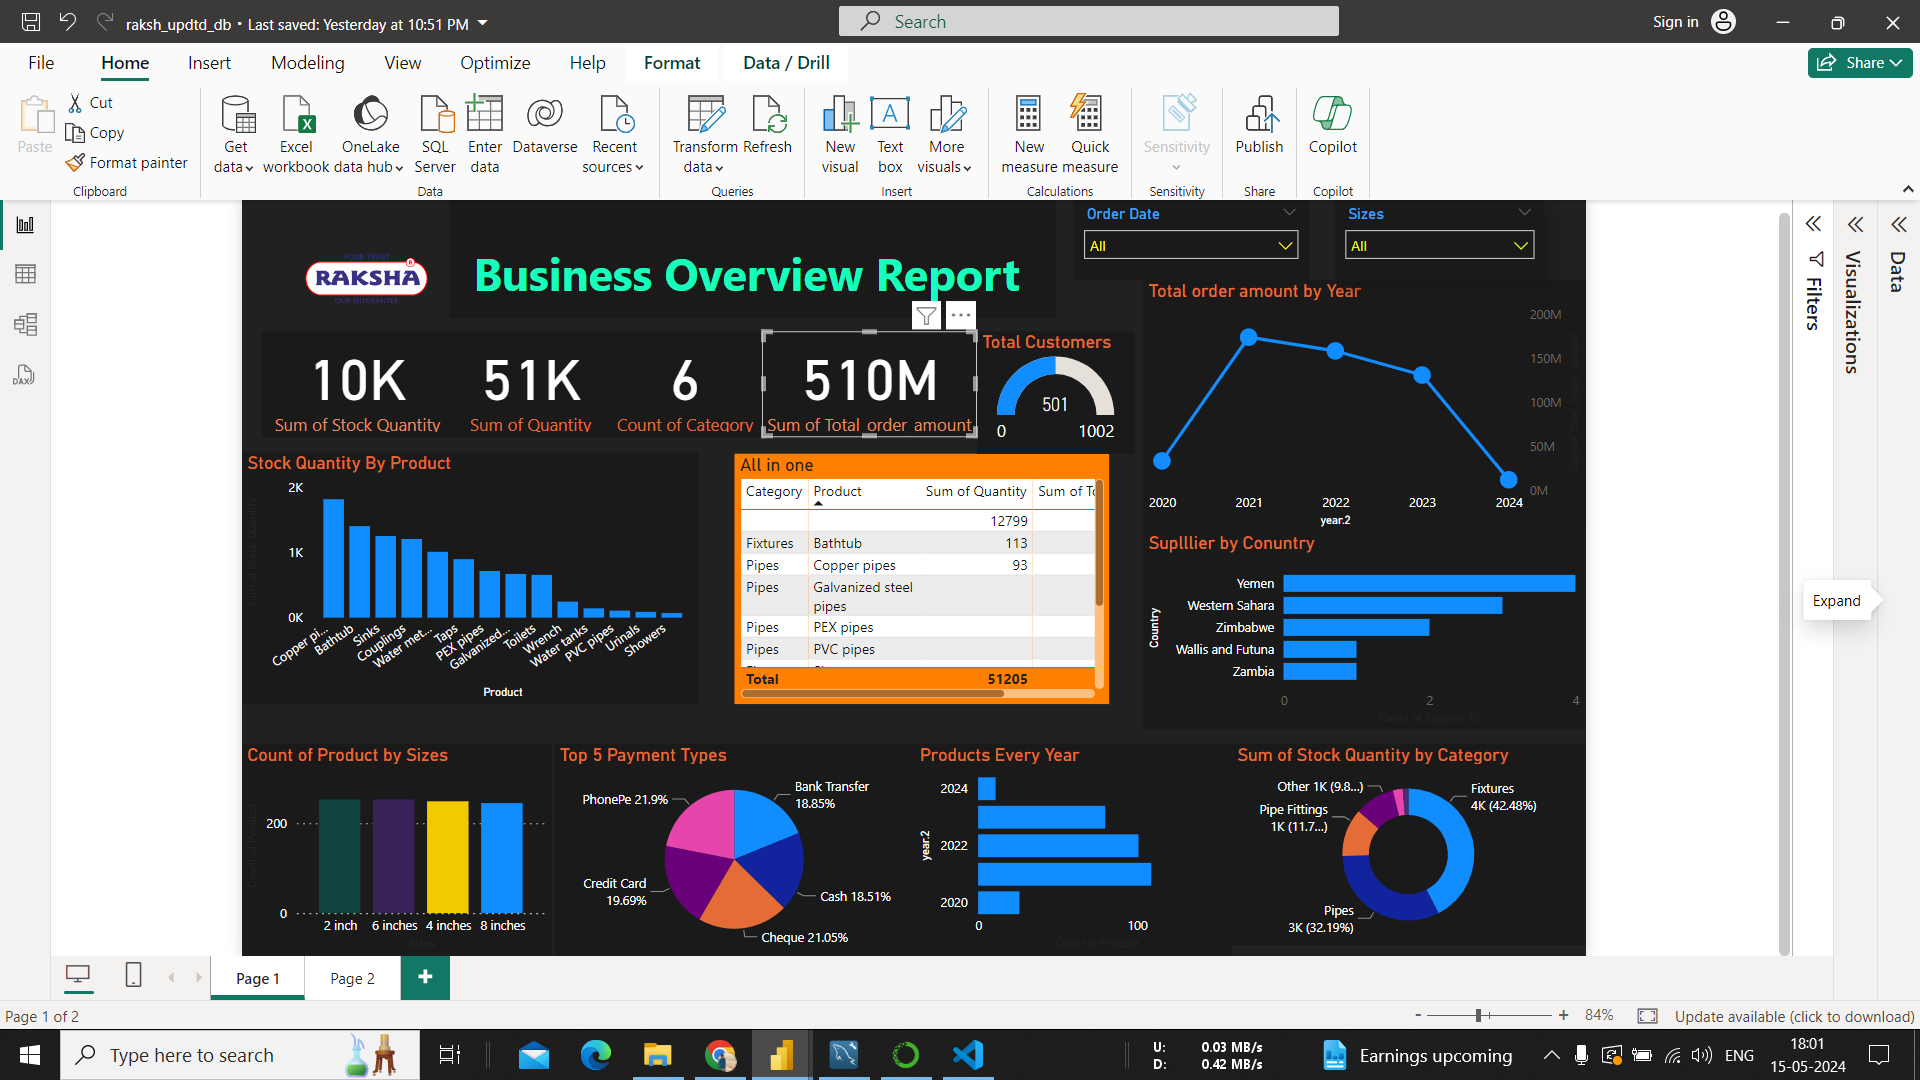

This screenshot's page, from the dashboard's own definition file:
{"tool":"powerbi","page":{"name":"Page 1","canvas":[1280,720],"ordinal":0},"visuals":[{"type":"textbox","box":[197.6,0,577.4,113.1],"z":0},{"type":"lineChart","title":"Total order amount by Year","fields":{"Category":["OrdersRK1.year.2"],"Y2":["Sum(OrdersRK1.Total_order_amount)"]},"box":[858.4,76.6,422.1,240.3],"z":1000},{"type":"clusteredColumnChart","title":"Stock Quantity By Product ","fields":{"Y":["Sum(Products_RK2.Stock Quantity)"],"Category":["Products_RK2.Product"]},"box":[0,240.5,434.5,239.3],"z":2000},{"type":"card","fields":{"Values":["Sum(Products_RK2.Stock Quantity)"]},"box":[19,125,182.1,101.2],"z":3000},{"type":"card","fields":{"Values":["Sum(OrdersRK1.Total_order_amount)"]},"box":[495.2,125,204.8,101.2],"z":4000},{"type":"clusteredBarChart","title":"Suplllier by Conuntry ","fields":{"Category":["shippers2.Country"],"Y":["CountNonNull(shippers2.Supplier ID)"]},"box":[858.4,316.9,420.8,188.3],"z":5000},{"type":"pieChart","title":"Top 5 Payment Types","fields":{"Series":["AccountsRk.Payment Type"],"Y":["CountNonNull(AccountsRk.Payment ID)"]},"box":[297.4,518.2,342.9,201.3],"z":6000},{"type":"donutChart","fields":{"Category":["Products_RK2.Category"],"Y":["Sum(Products_RK2.Stock Quantity)"]},"box":[942.9,518.2,336.4,192.2],"z":7000},{"type":"columnChart","fields":{"Category":["Year on Year Sales.Sizes"],"Y":["CountNonNull(Year on Year Sales.Product)"]},"box":[0,518.2,294.8,201.3],"z":8000},{"type":"slicer","fields":{"Values":["Year on Year Sales.Sizes"]},"box":[1040.3,0,200,76.6],"z":9000},{"type":"card","fields":{"Values":["Sum(Year on Year Sales.Quantity)"]},"box":[201.2,125,147.6,101.2],"z":10000},{"type":"barChart","title":"Products Every Year ","fields":{"Category":["OrdersRK1.year.2"],"Y":["CountNonNull(Year on Year Sales.Product)"]},"box":[640.3,518.2,302.6,201.3],"z":11000},{"type":"slicer","fields":{"Values":["OrdersRK1.Order Date"]},"box":[792.2,0,224.7,76.6],"z":12000},{"type":"image","box":[0,0,236.9,151.2],"z":13000},{"type":"tableEx","title":"All in one ","fields":{"Values":["Products_RK2.Category","Products_RK2.Product","Sum(Year on Year Sales.Quantity)","Sum(OrdersRK1.Total_order_amount)"]},"box":[469.1,241.7,357.1,238.1],"z":14000},{"type":"card","fields":{"Values":["Count(Products_RK2.Category)"]},"box":[348.8,125,146.4,101.2],"z":15000},{"type":"gauge","title":"Total Customers","fields":{"Y":["CountNonNull(Personal Details.customersID)"]},"box":[700,125,150,116.7],"z":16000}]}

Visuals, with their boxes on the page's 1280x720 design canvas (x1, y1, x2, y2). These are canvas units, not pixel positions in the 1920x1080 screenshot, which may show the page scaled, cropped or inside an application window:
textbox: BBox(198, 0, 775, 113)
"Total order amount by Year" lineChart: BBox(858, 77, 1280, 317)
"Stock Quantity By Product " clusteredColumnChart: BBox(0, 240, 434, 480)
card - Sum(Products_RK2.Stock Quantity): BBox(19, 125, 201, 226)
card - Sum(OrdersRK1.Total_order_amount): BBox(495, 125, 700, 226)
"Suplllier by Conuntry " clusteredBarChart: BBox(858, 317, 1279, 505)
"Top 5 Payment Types" pieChart: BBox(297, 518, 640, 720)
donutChart - Products_RK2.Category x Sum(Products_RK2.Stock Quantity): BBox(943, 518, 1279, 710)
columnChart - Year on Year Sales.Sizes x CountNonNull(Year on Year Sales.Product): BBox(0, 518, 295, 720)
slicer - Year on Year Sales.Sizes: BBox(1040, 0, 1240, 77)
card - Sum(Year on Year Sales.Quantity): BBox(201, 125, 349, 226)
"Products Every Year " barChart: BBox(640, 518, 943, 720)
slicer - OrdersRK1.Order Date: BBox(792, 0, 1017, 77)
image: BBox(0, 0, 237, 151)
"All in one " tableEx: BBox(469, 242, 826, 480)
card - Count(Products_RK2.Category): BBox(349, 125, 495, 226)
"Total Customers" gauge: BBox(700, 125, 850, 242)
